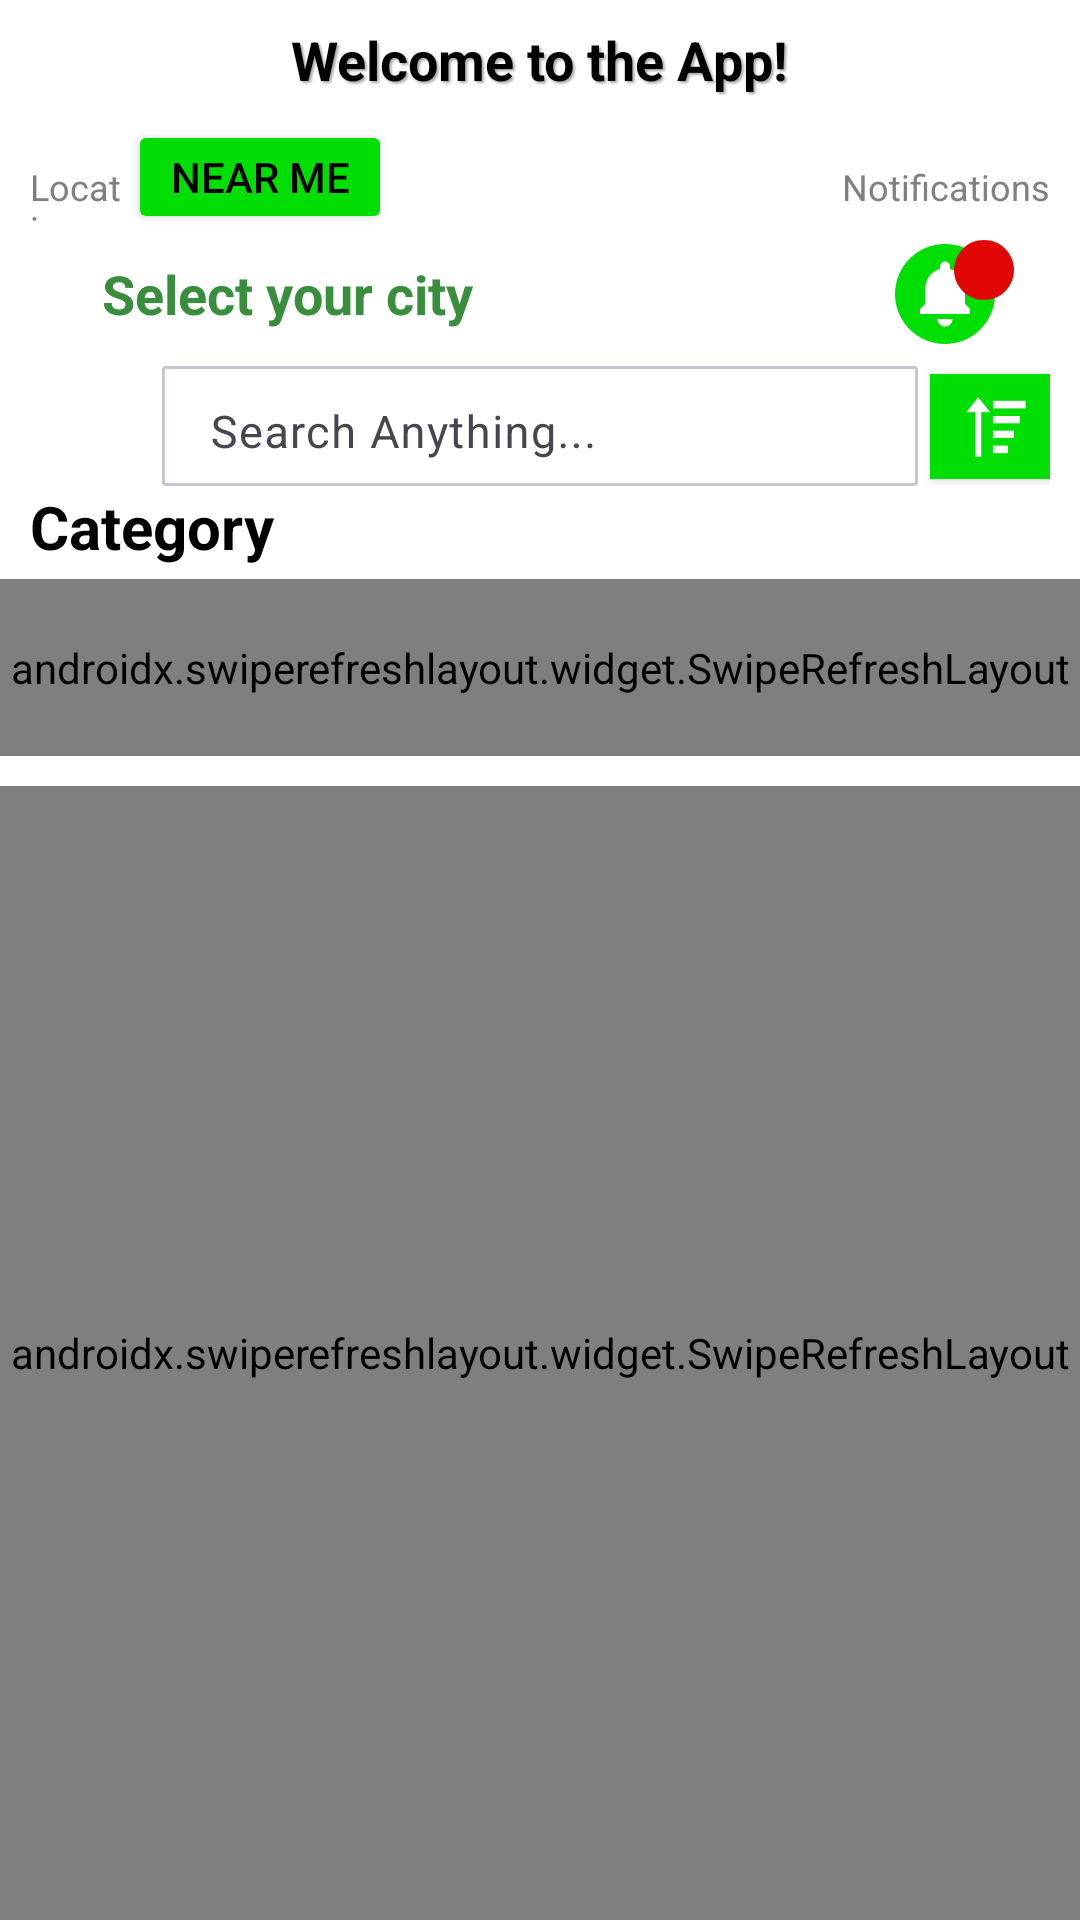

Named icons in this screenshot (1080px×1920px) and their bounding boxes, (x1, y1, x2, y2):
sorrt: (930, 374, 1050, 479)
